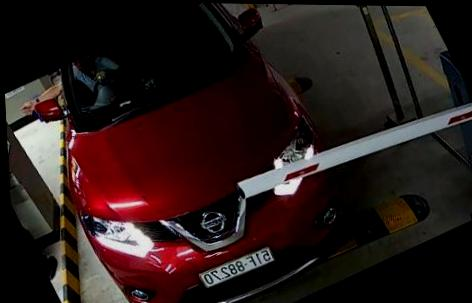License_Plate: (193, 239, 282, 293)
